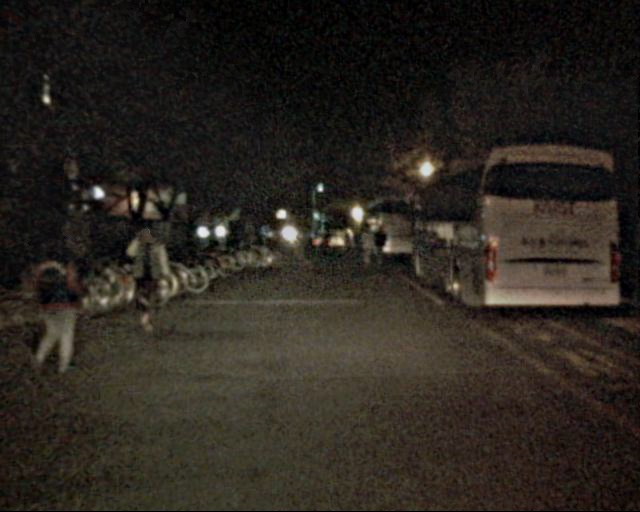person: (31, 219, 93, 375), (129, 222, 172, 326), (371, 226, 388, 268), (357, 222, 374, 264), (349, 224, 365, 262)
